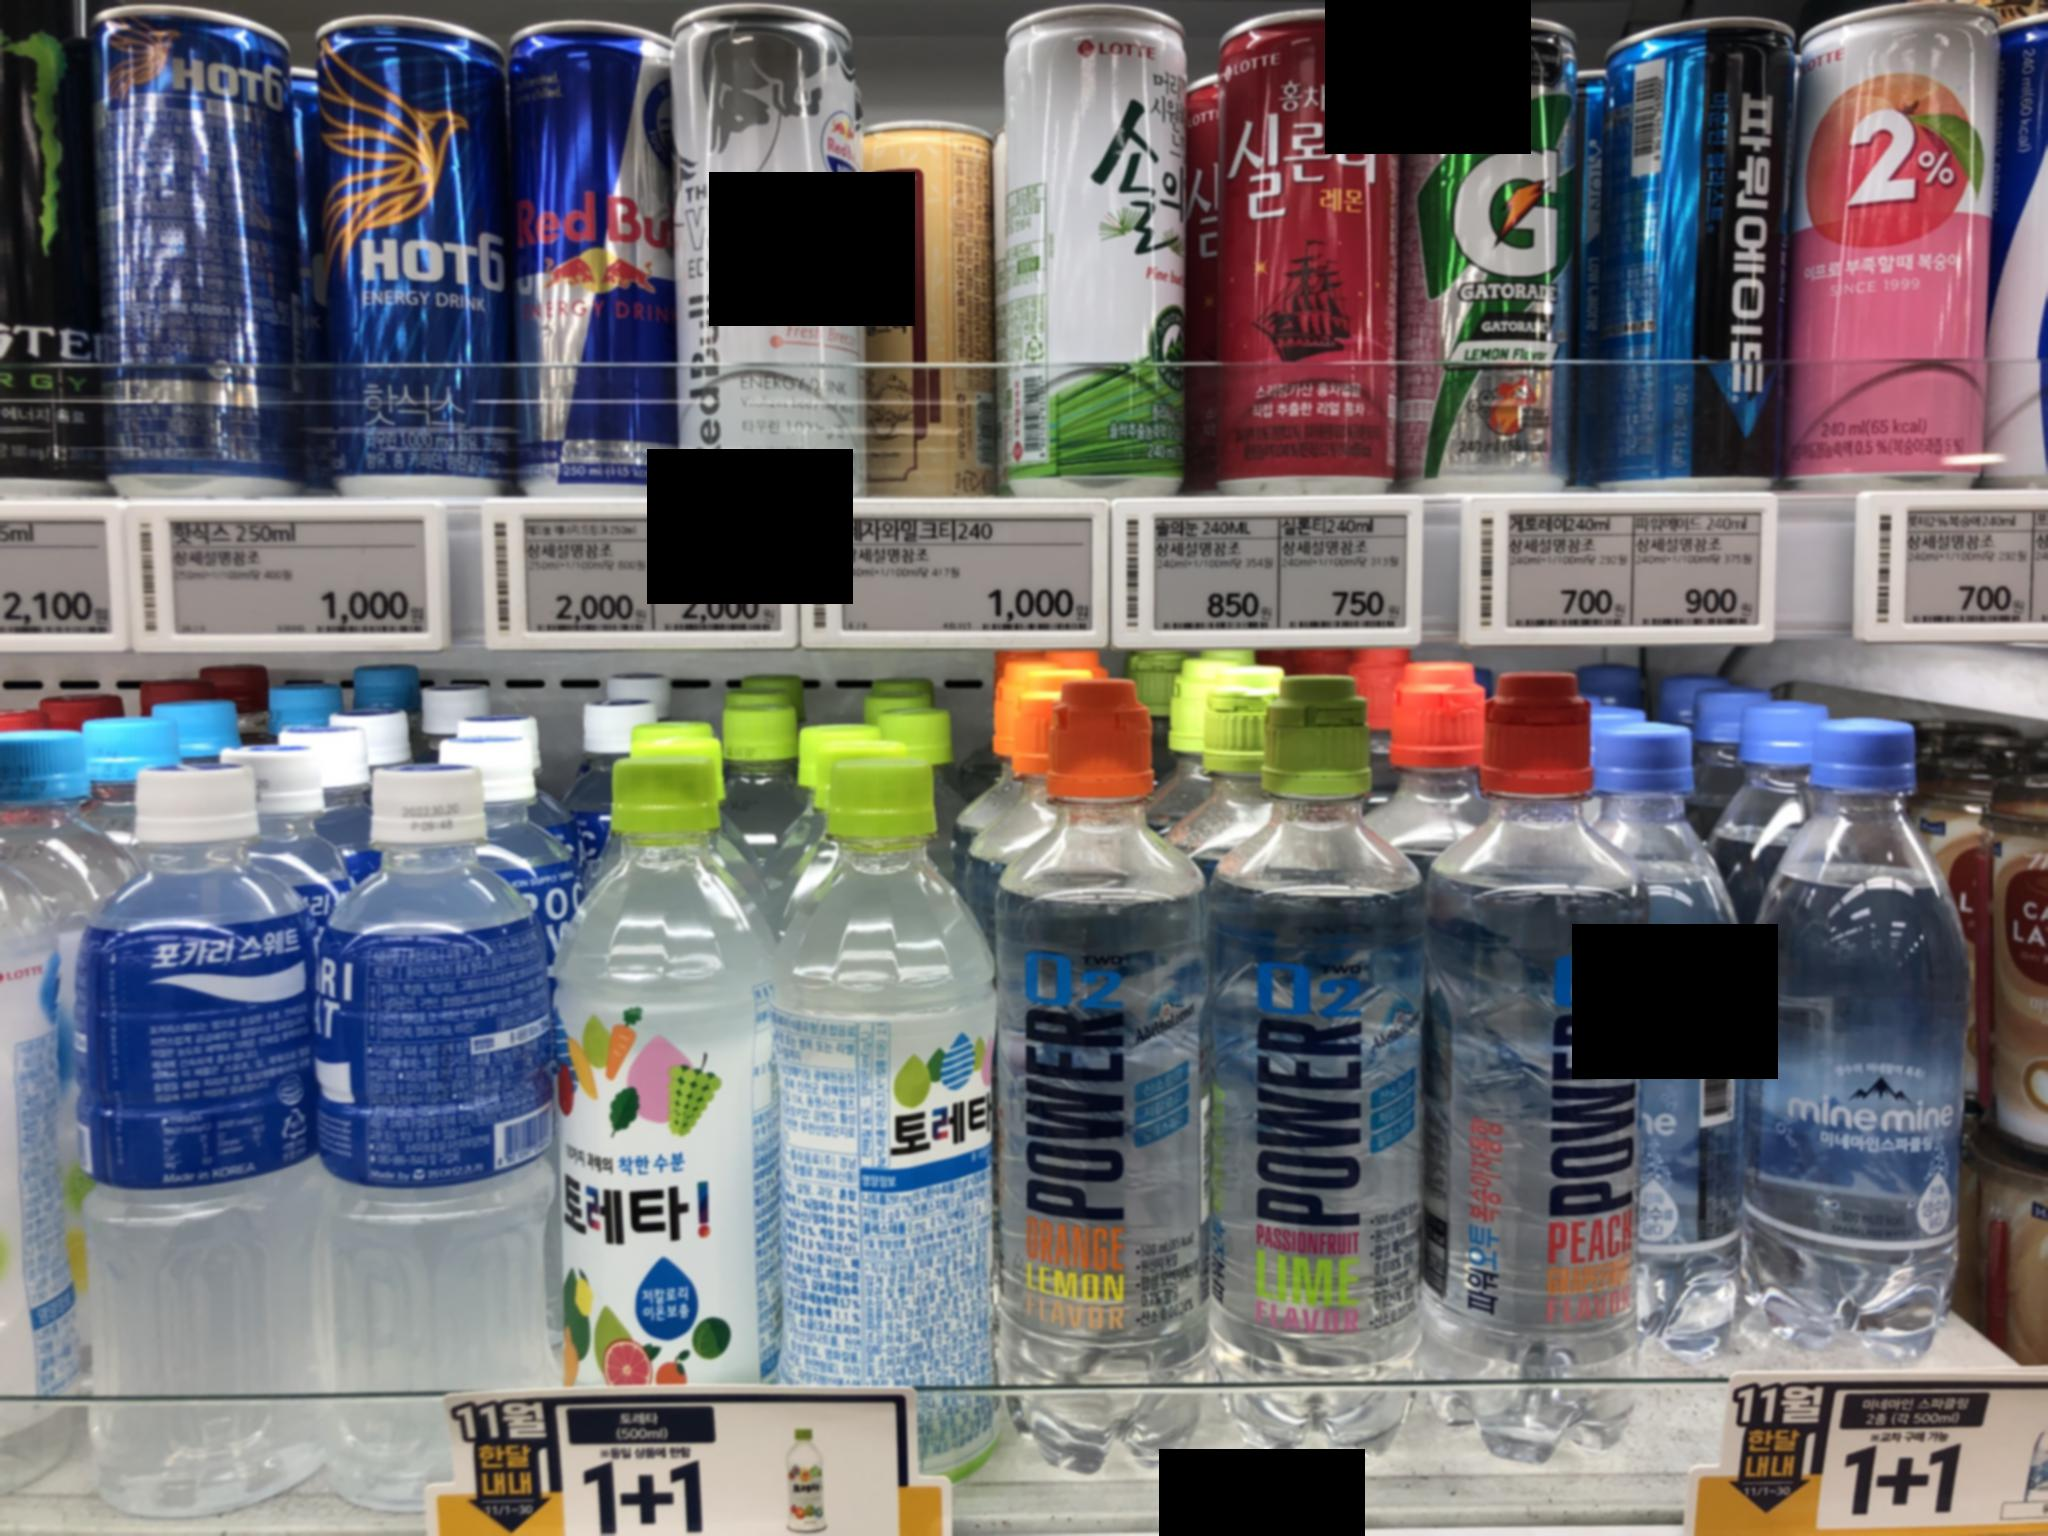hotsix_org: (98, 0, 298, 490), (297, 0, 493, 494)
pocarisweat: (77, 762, 319, 1534), (290, 736, 506, 1536)
powerO2_orange: (987, 660, 1192, 1476)
toreta: (734, 712, 1027, 1430), (566, 726, 756, 1404)
